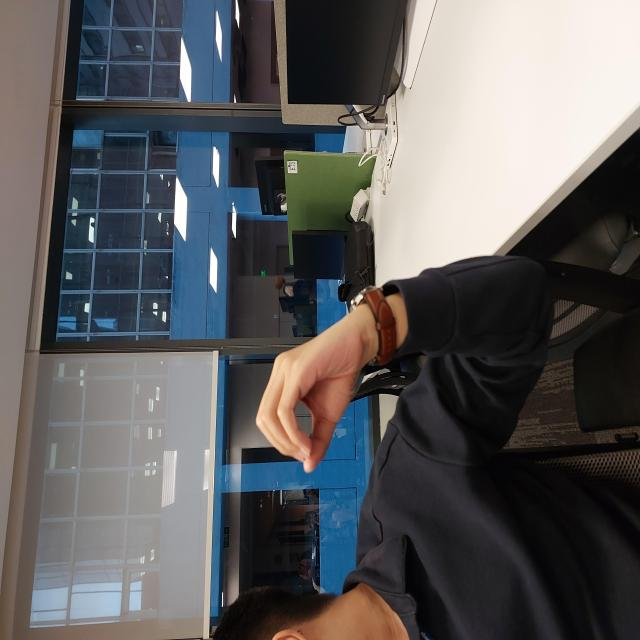O: (168, 255, 312, 361)
